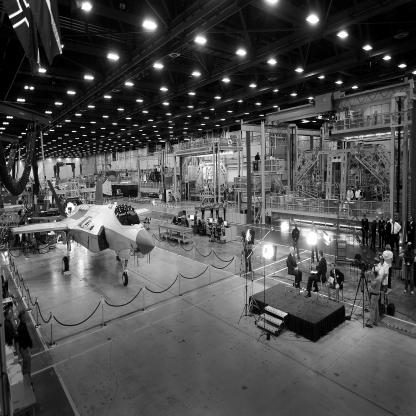F35: (11, 177, 156, 287)
